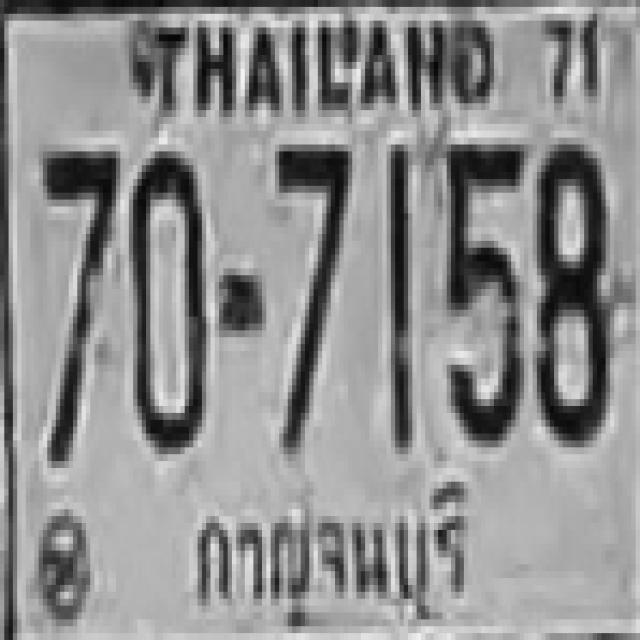0: (129, 144, 202, 448)
1: (384, 141, 410, 444)
5: (442, 137, 520, 440)
7: (41, 148, 118, 458), (275, 138, 348, 447), (41, 144, 118, 358)
8: (532, 137, 606, 440)
Kanchanaburi: (184, 472, 486, 638)
